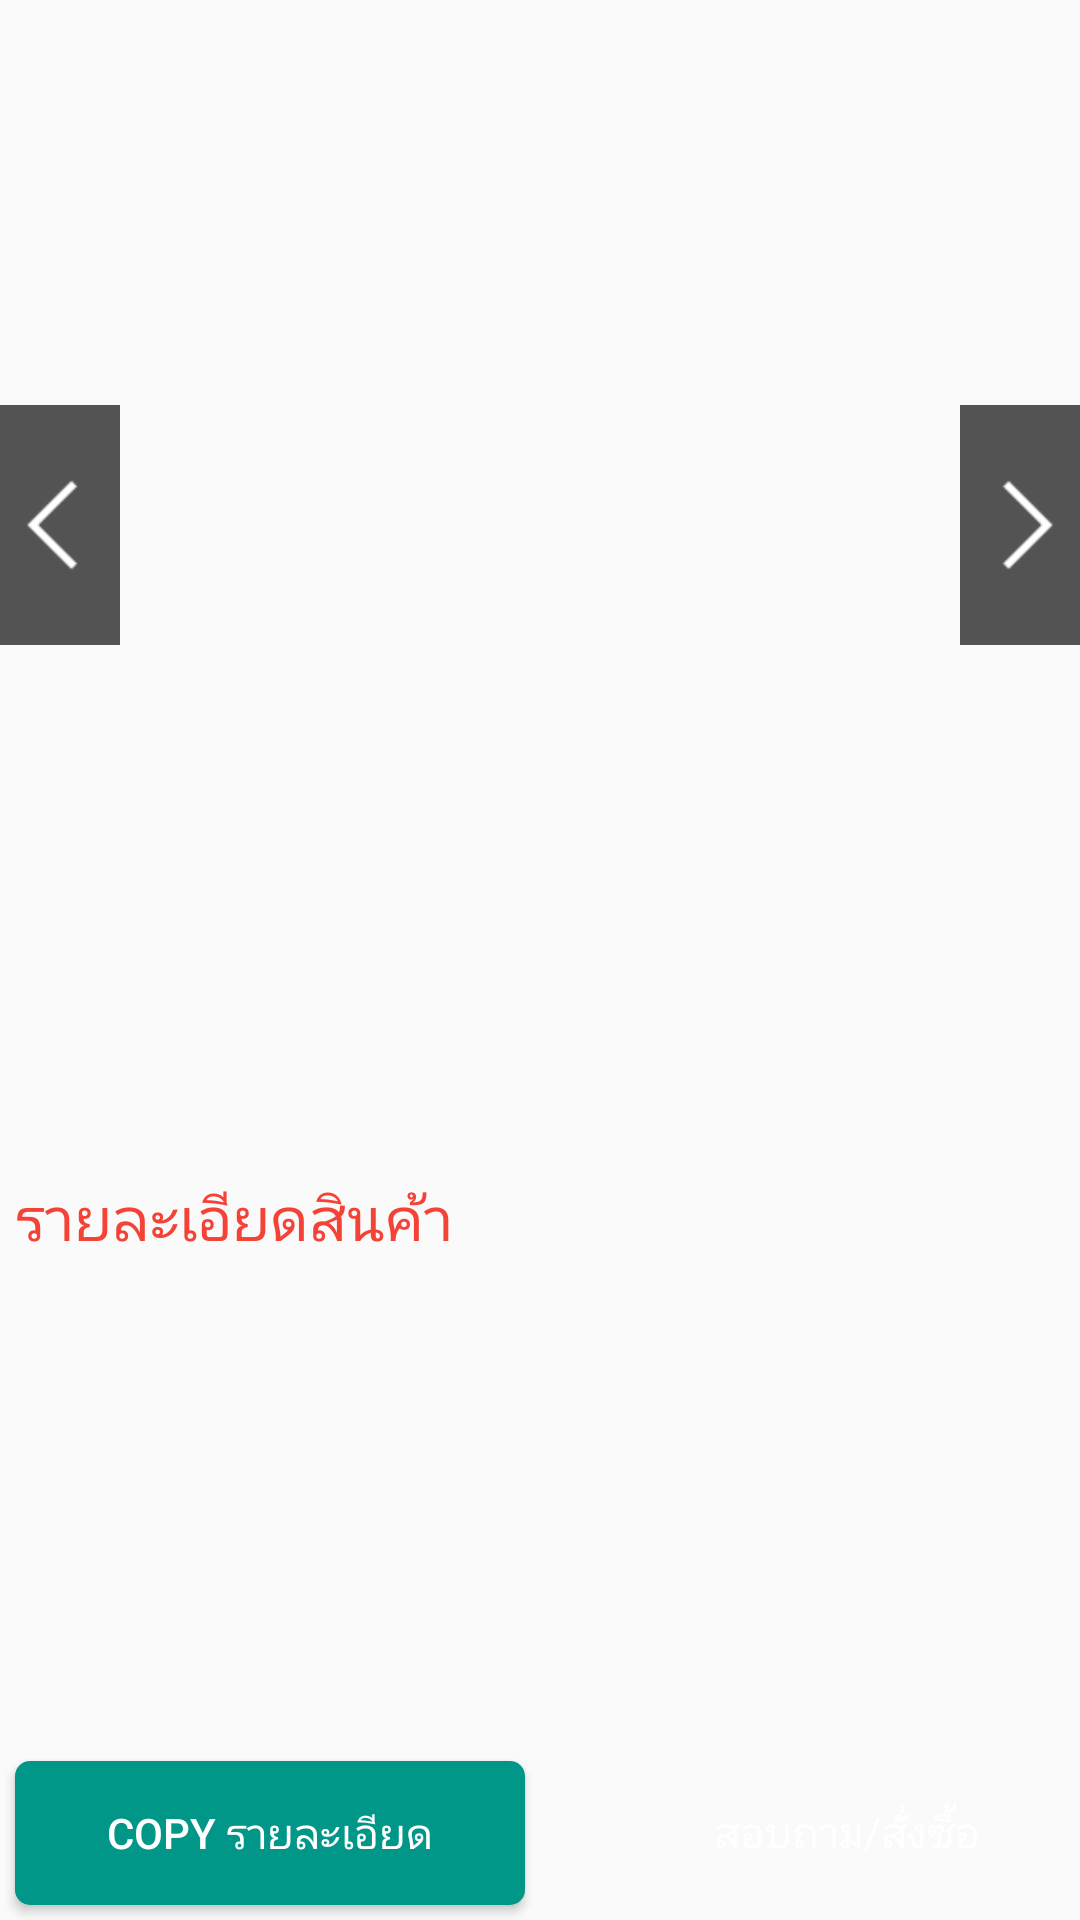

Icons on this 1080×1920 Android screen, each with the point to tap as (x=x, y=y):
back: (x=60, y=525)
forward: (x=1020, y=525)
